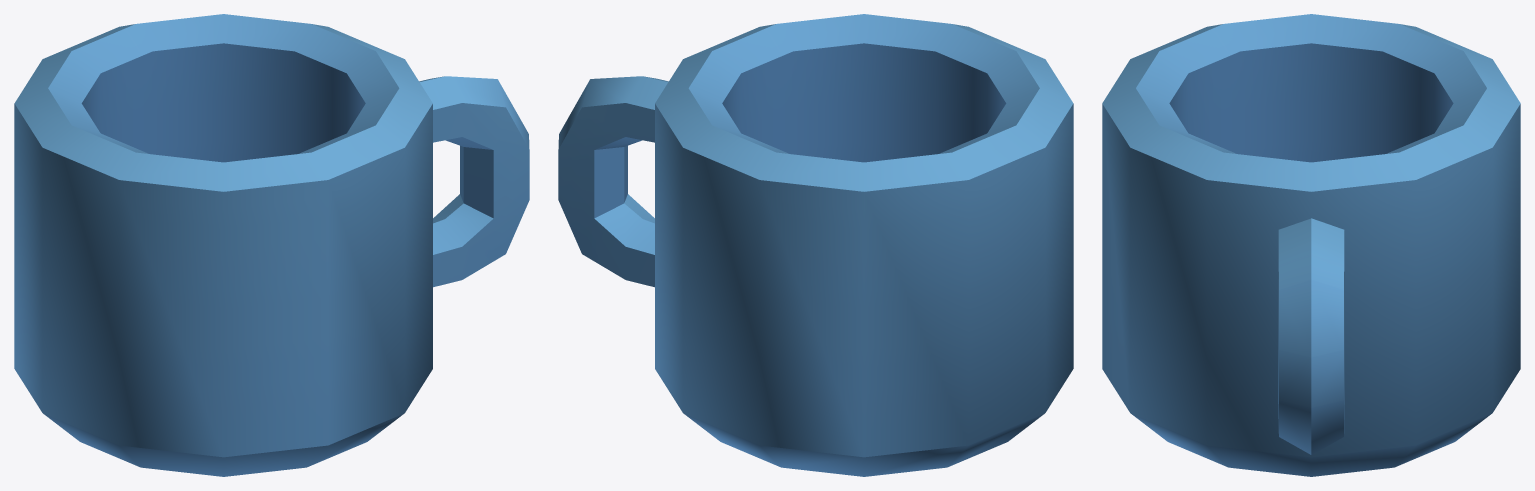
The model's file is mug_B.glb.
3 renders of one model, left to right at view 1: azimuth 30°, elevation 25°; view 2: azimuth 150°, elevation 25°; view 3: azimuth 270°, elevation 25°, orthographic.
Visible parts, largest first — view 1: mug_B; view 2: mug_B; view 3: mug_B.
Part boxes in pixels (x1,y1,x2,y2): mug_B: (14,14,529,476); mug_B: (558,14,1073,476); mug_B: (1102,14,1520,476).
Bounding box in the file's own units: 0.4932 × 0.3087 × 0.3675.
Materials: 1 (1 with a texture image).
